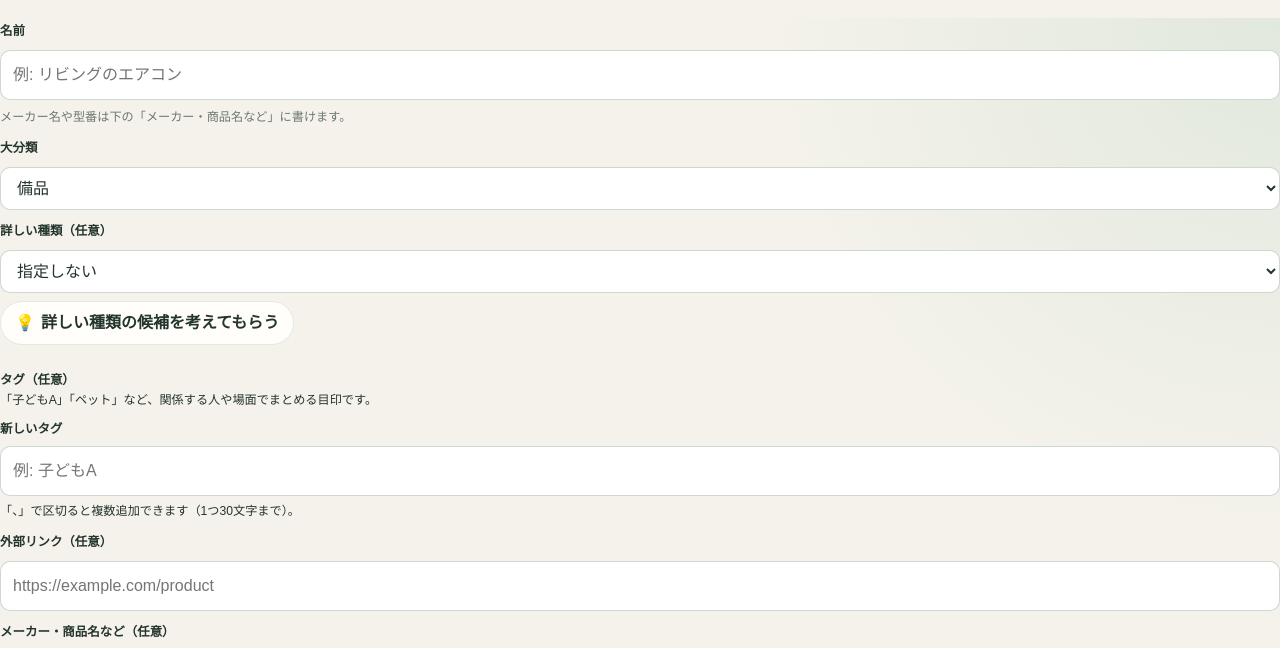
詳しい種類のAI提案(Issue #332) › 入力途中の自由入力も提案の手がかりとして送る
In the field labelled "名前": (640, 75) [0,50,1279,100], type "コーヒーの機械"
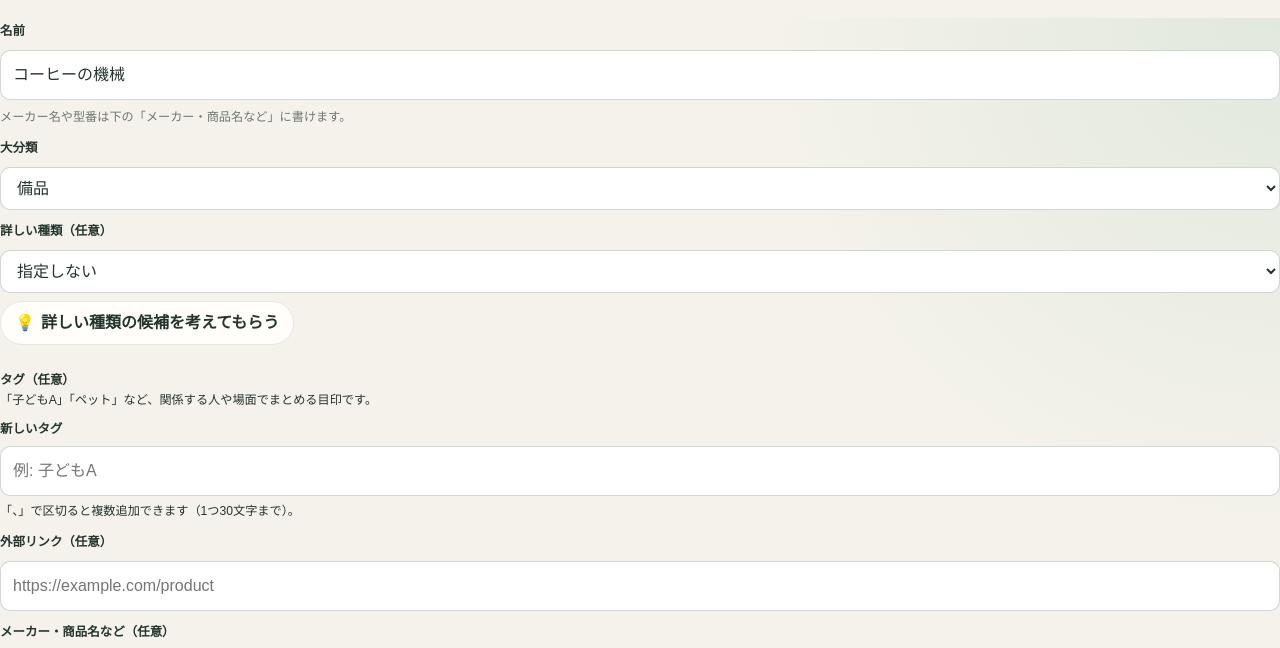
Select "その他（自由入力）" in the dropdown labelled "詳しい種類（任意）": (640, 271) [0,250,1279,293]
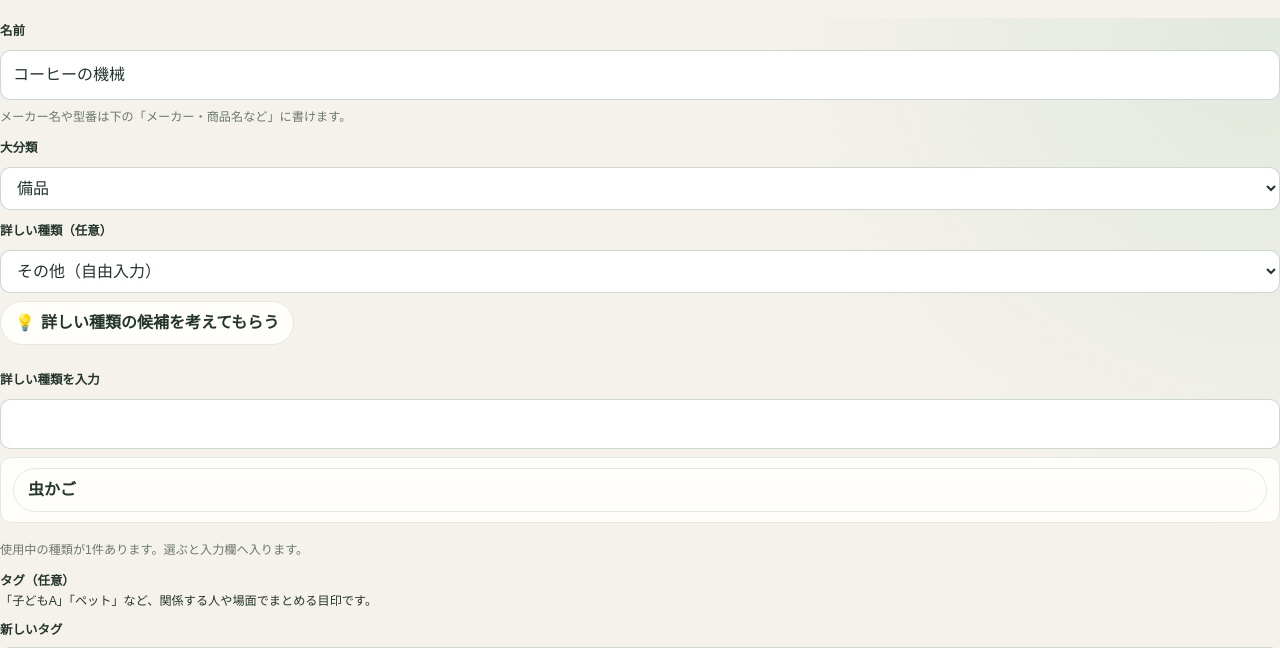
In the field labelled "詳しい種類を入力": (640, 424) [0,399,1279,448], type "コーヒー"
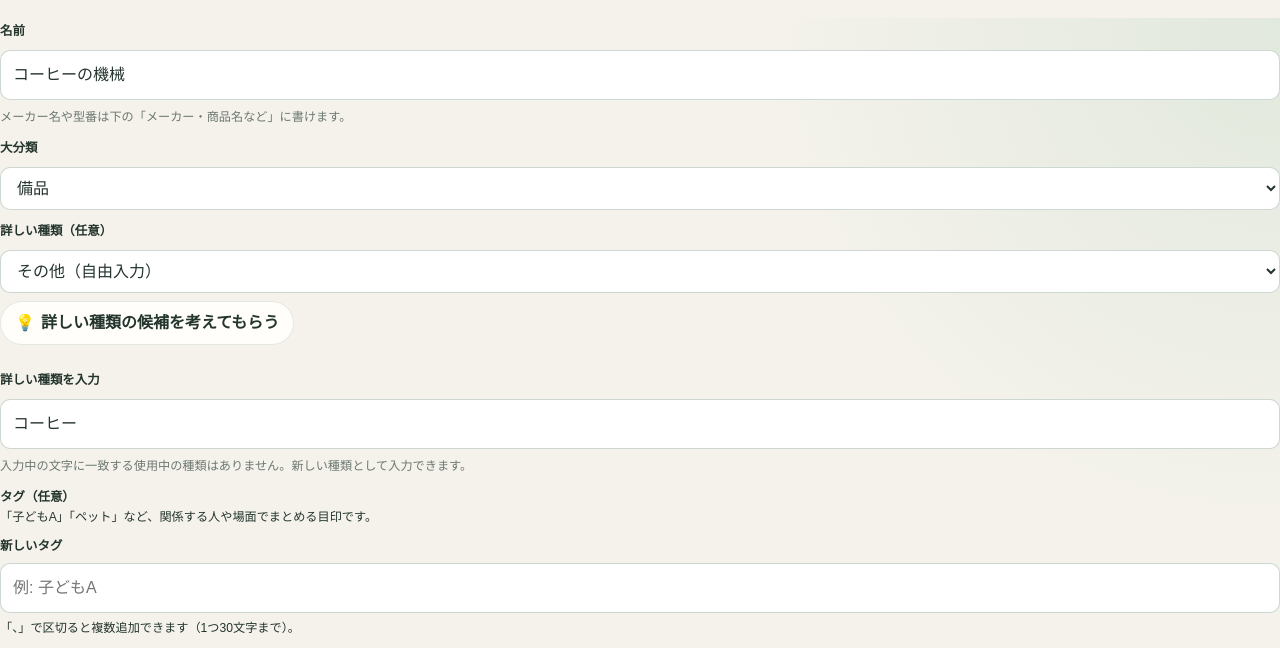
Click the button "💡 詳しい種類の候補を考えてもらう": (147, 323) [0,301,294,345]
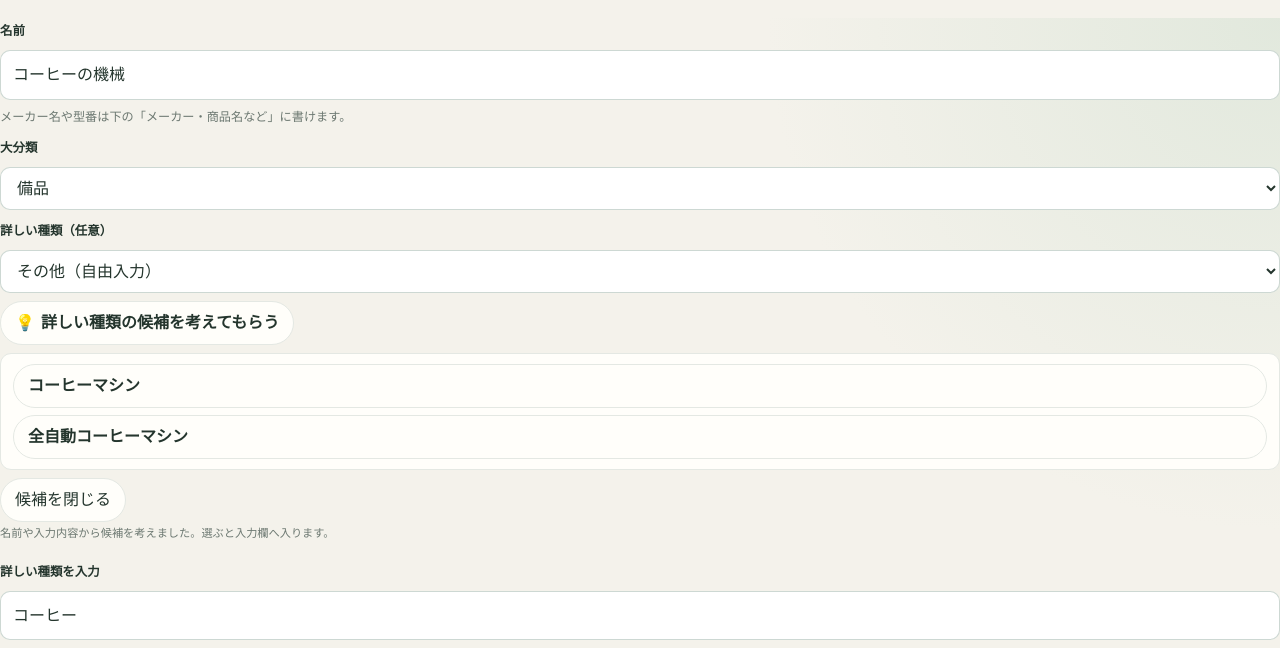
Expected: the element named "考えた詳しい種類の候補から選ぶ" is shown, [0,353,1279,470]
